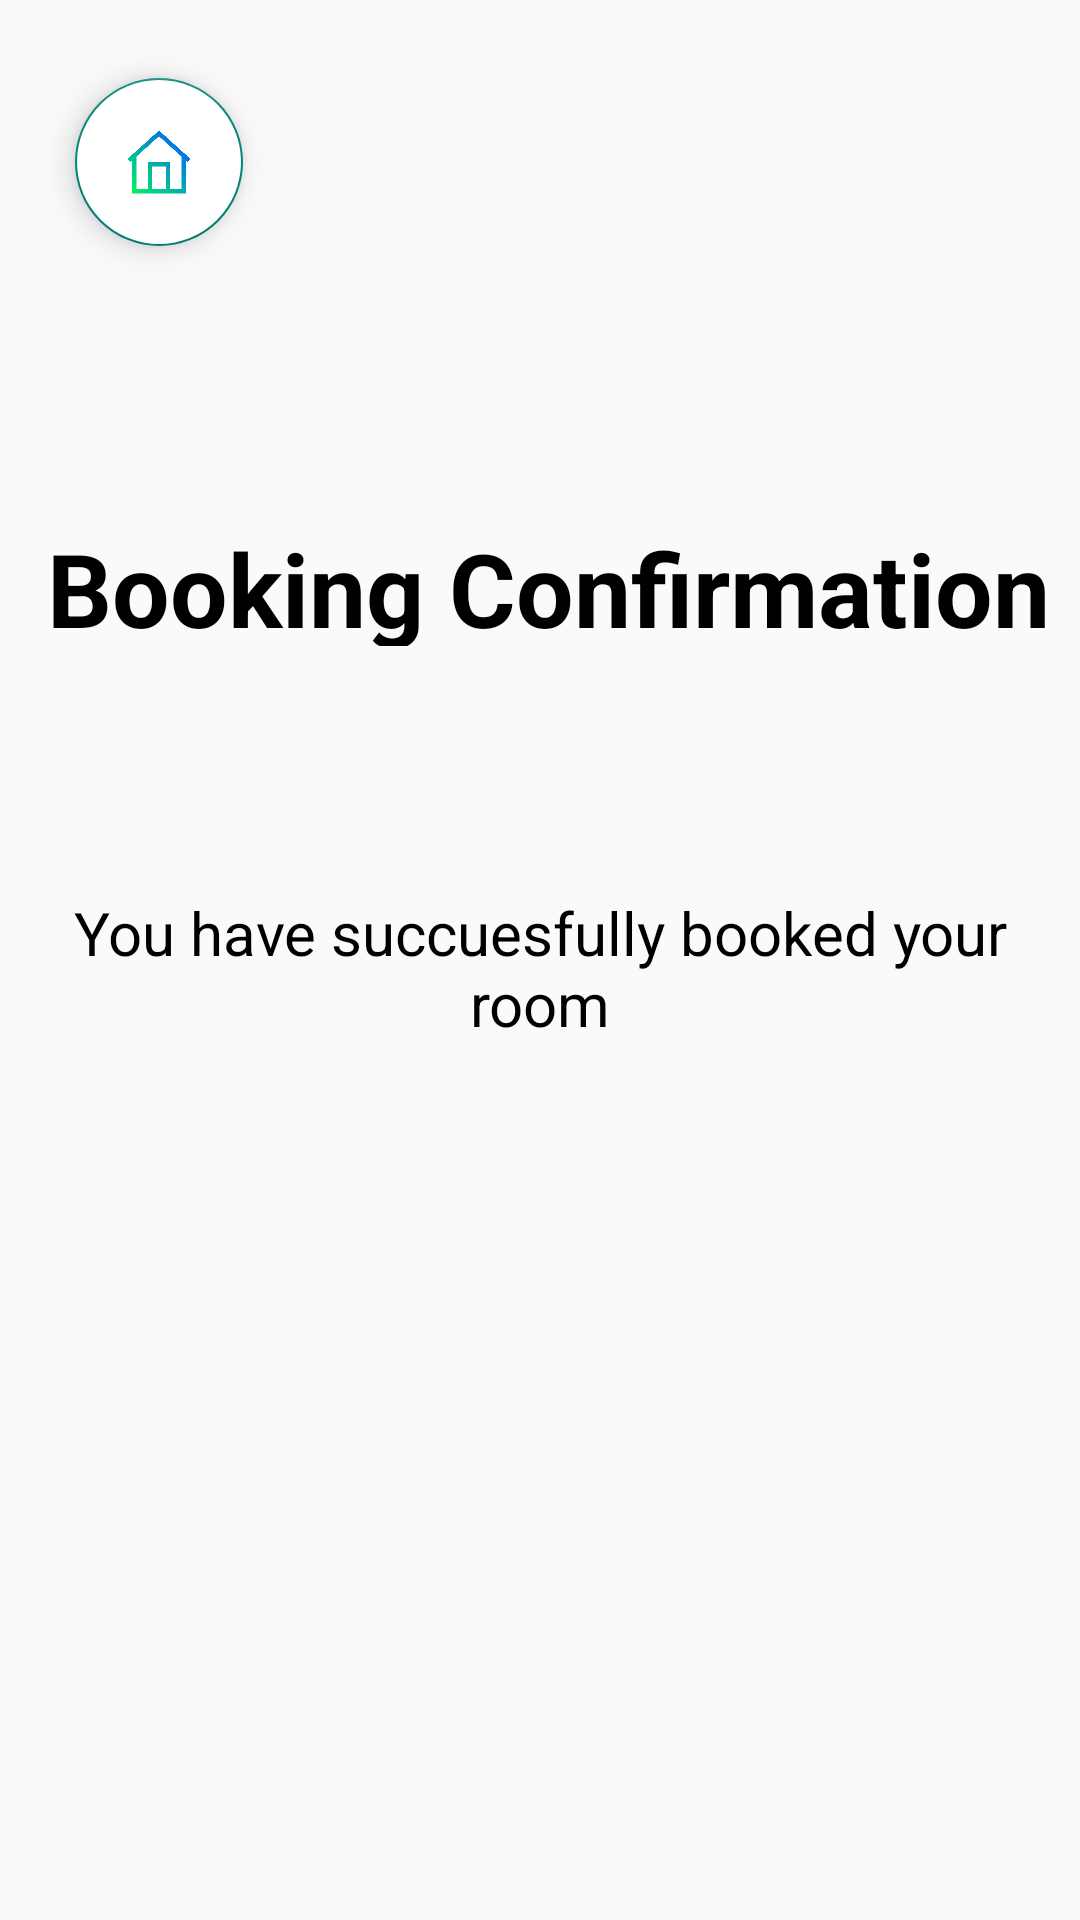

Icon click points for this 1080px x 1920px phone screenshot, format point (x, y):
home: point (159, 162)
